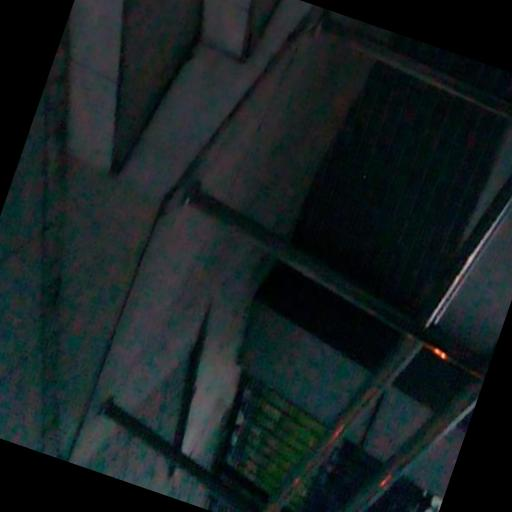stairs: (66, 0, 278, 172), (201, 0, 279, 60)
